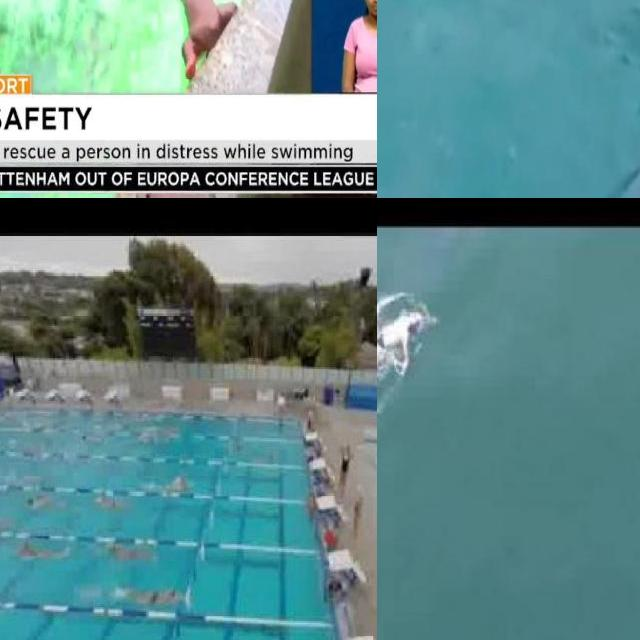swimming: (377, 303, 426, 374), (123, 574, 175, 605), (161, 470, 204, 501), (14, 542, 68, 563), (113, 535, 146, 557), (80, 427, 104, 453), (25, 487, 51, 508), (0, 509, 17, 535), (96, 498, 113, 517)
